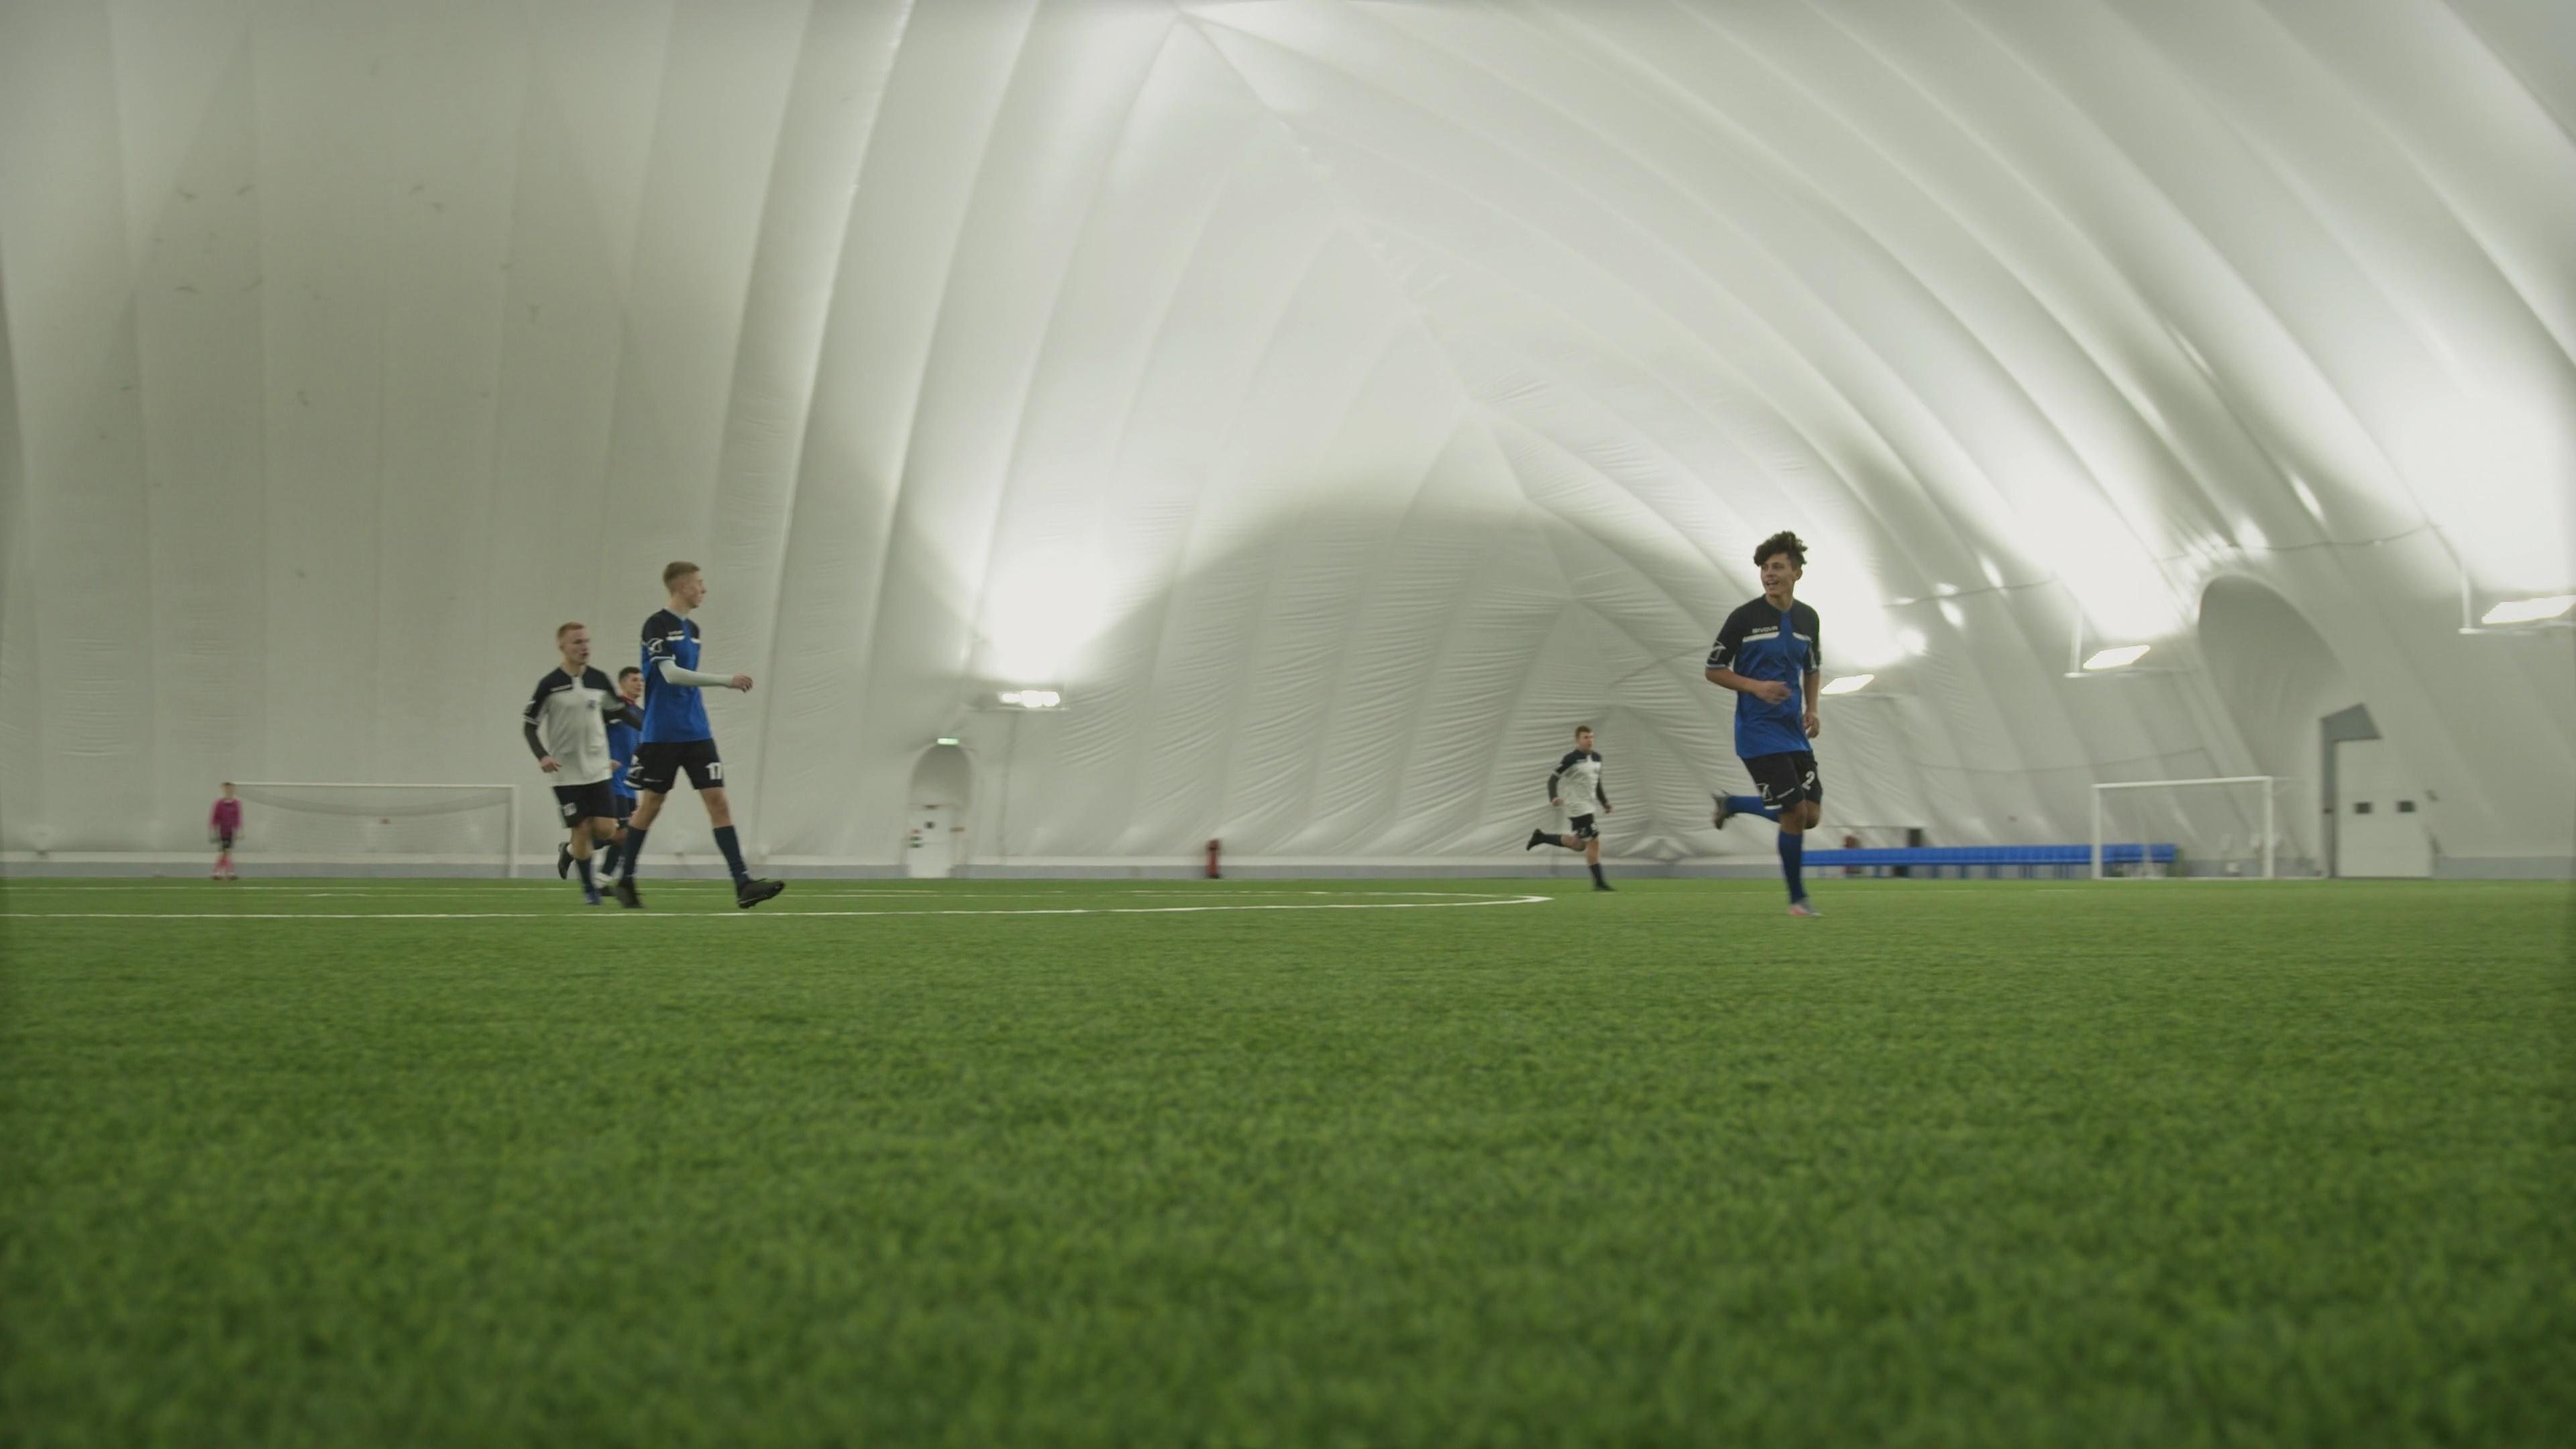team1: (593, 561, 786, 915), (1704, 531, 1833, 916), (603, 651, 646, 832)
team1gk: (207, 780, 246, 886)
team2: (524, 616, 633, 895), (1534, 720, 1617, 897)
